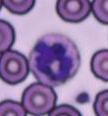N: (29, 34, 81, 86)
